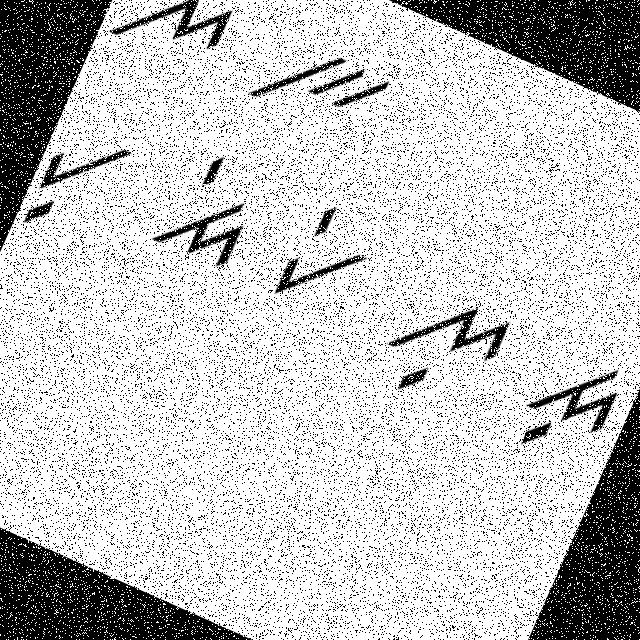de: (135, 134, 272, 282)
du: (502, 334, 639, 484)
ne: (105, 0, 263, 83)
nu: (364, 267, 528, 432)
pe: (263, 190, 397, 332)
pu: (18, 110, 148, 262)
